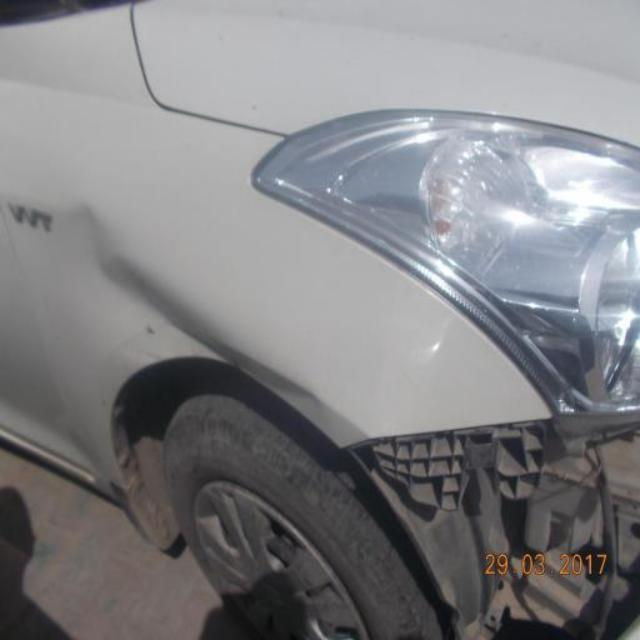dent: (51, 199, 258, 365)
no part: (333, 408, 640, 640)
